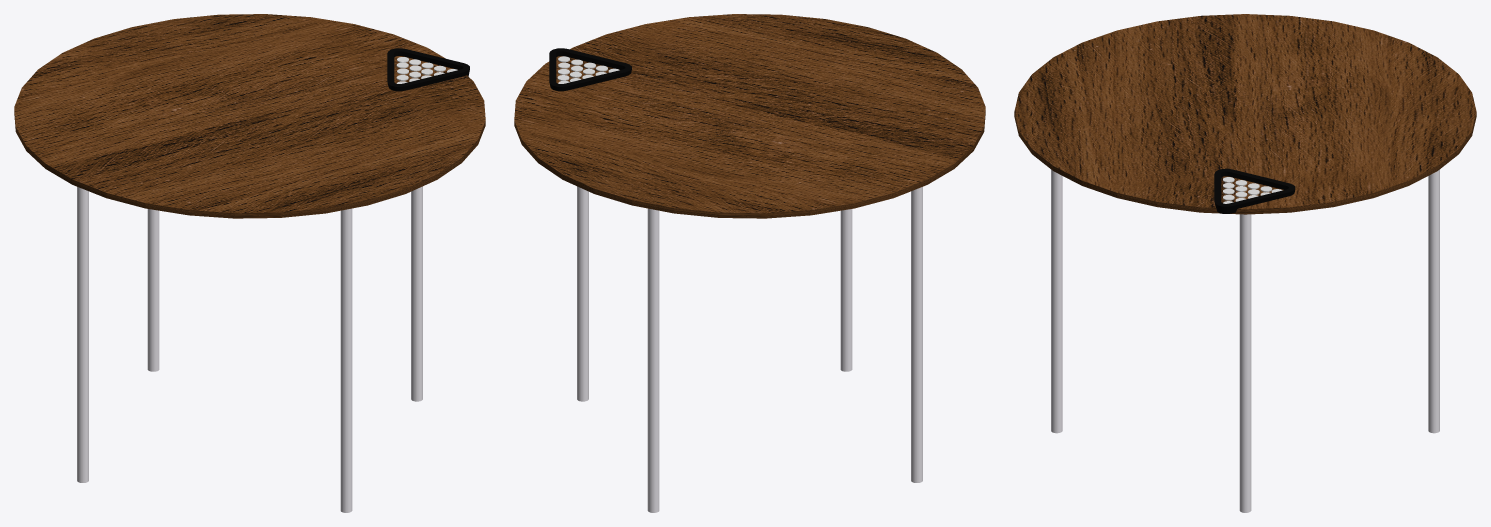
File: TableV4.fbx
3 renders of one model, left to right at view 1: azimuth 30°, elevation 25°; view 2: azimuth 150°, elevation 25°; view 3: azimuth 270°, elevation 25°, orthographic. The views are drawn at different scales.
Visible parts, largest first — view 1: Cylinder.032, Cylinder.033, Cylinder.034, Cylinder.016; view 2: Cylinder.032, Cylinder.033, Cylinder.034, Cylinder.016; view 3: Cylinder.032, Cylinder.034, Cylinder.033, Cylinder.016.
Part boxes in pixels (x1,y1,x2,y2): Cylinder.032: (14, 14, 485, 218); Cylinder.033: (77, 186, 422, 482); Cylinder.034: (147, 208, 352, 512); Cylinder.016: (387, 48, 469, 91); Cylinder.032: (514, 14, 985, 218); Cylinder.033: (577, 186, 922, 482); Cylinder.034: (647, 208, 852, 512); Cylinder.016: (549, 48, 631, 91); Cylinder.032: (1014, 14, 1476, 214); Cylinder.034: (1051, 169, 1439, 433); Cylinder.033: (1239, 214, 1251, 512); Cylinder.016: (1214, 168, 1295, 213).
Bounding box in the file's own units: 4.04 × 3.09 × 4.
